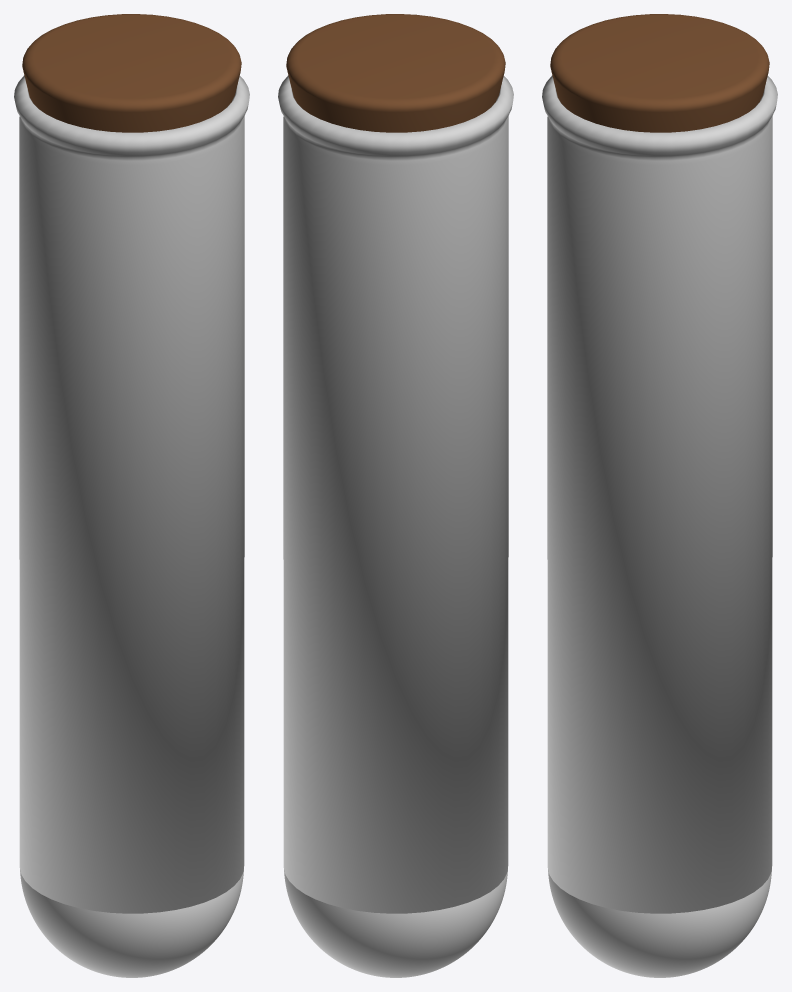
Rendered from Potion_7.fbx.
3 views of the same model, side by side, from view 1: azimuth 30°, elevation 25°; view 2: azimuth 150°, elevation 25°; view 3: azimuth 270°, elevation 25° (orthographic).
Parts seen in each view (by area): view 1: Potion_7; view 2: Potion_7; view 3: Potion_7.
Part boxes in pixels (x1=…): Potion_7: x1=14, y1=14, x2=249, y2=977; Potion_7: x1=278, y1=14, x2=513, y2=977; Potion_7: x1=542, y1=14, x2=777, y2=977.
Bounding box in the file's own units: 14.27 × 60.86 × 14.29.
